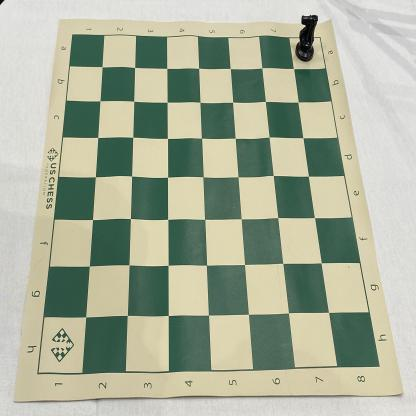black-knight: (295, 14, 317, 63)
